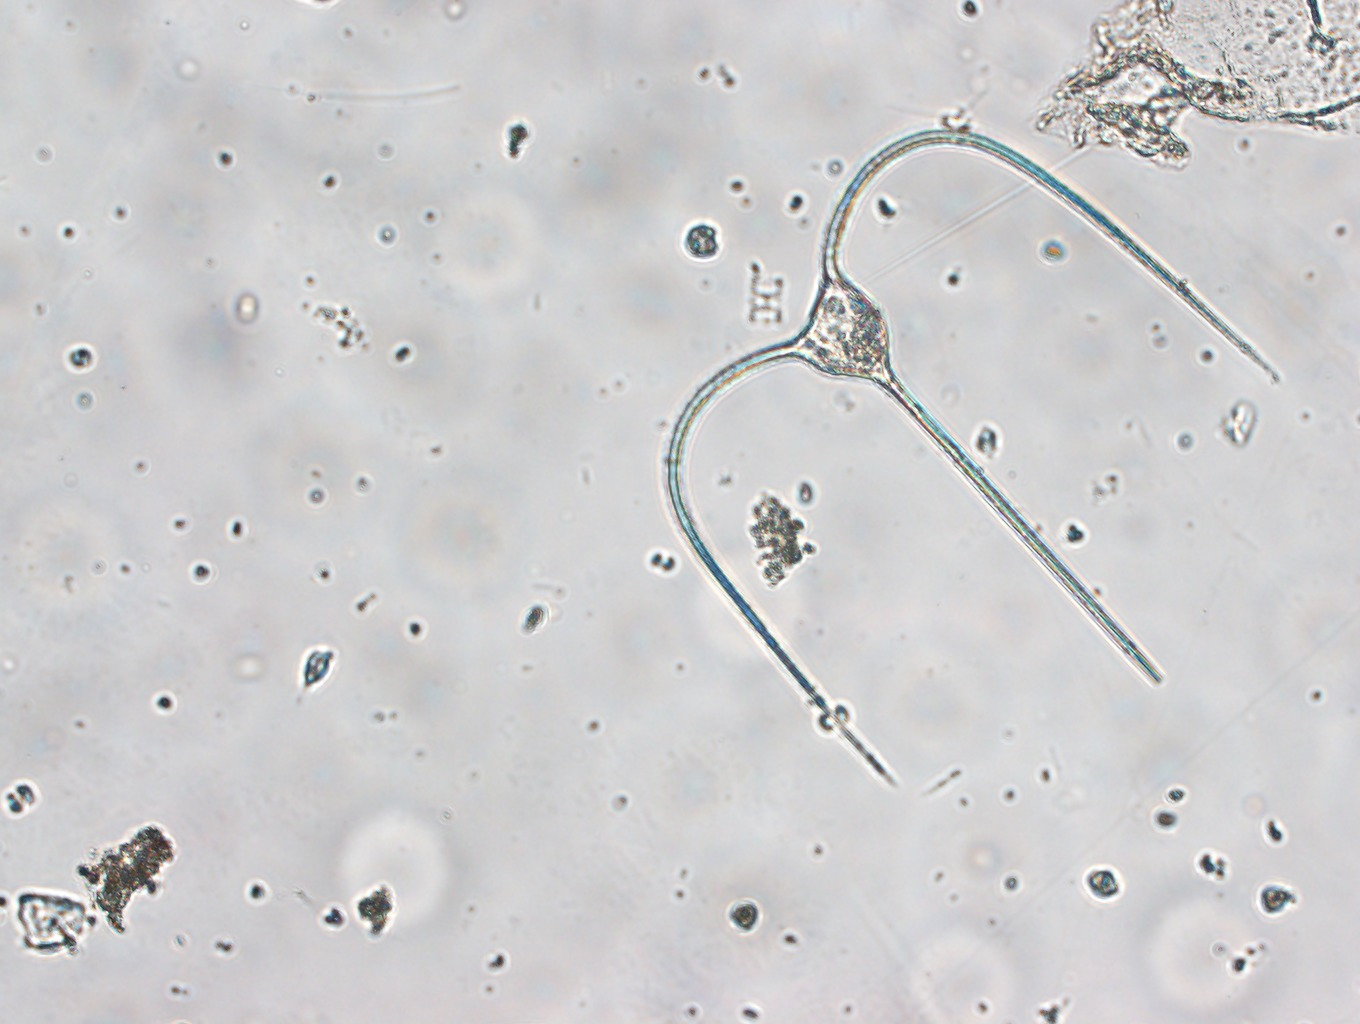ceratium trichoceros: (655, 119, 1300, 803)
